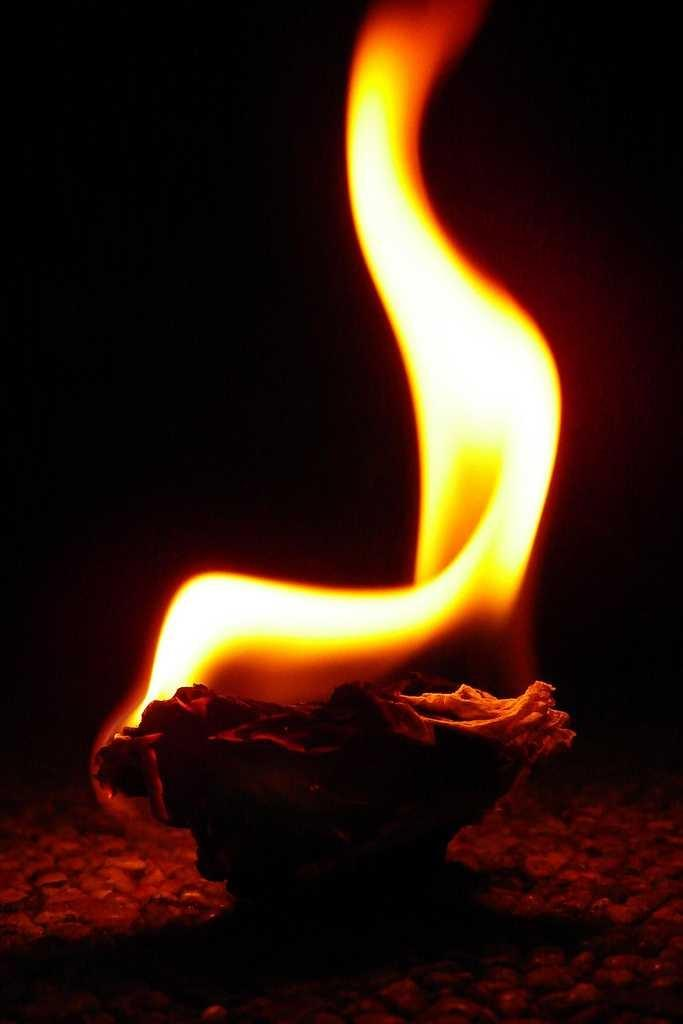fire: (420, 312, 545, 535), (172, 578, 420, 655), (355, 90, 415, 250)
